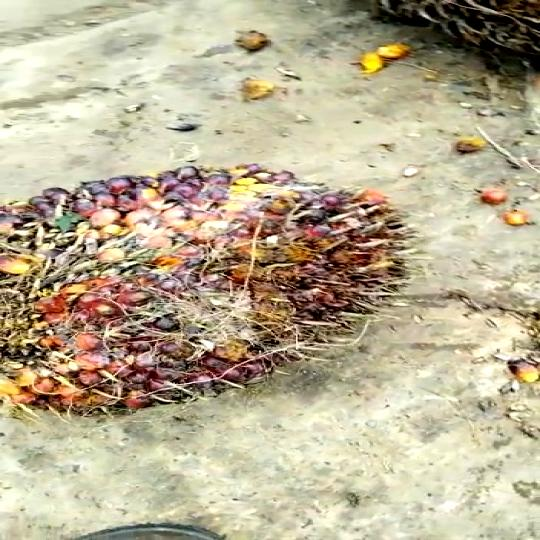masak: (0, 157, 408, 421)
